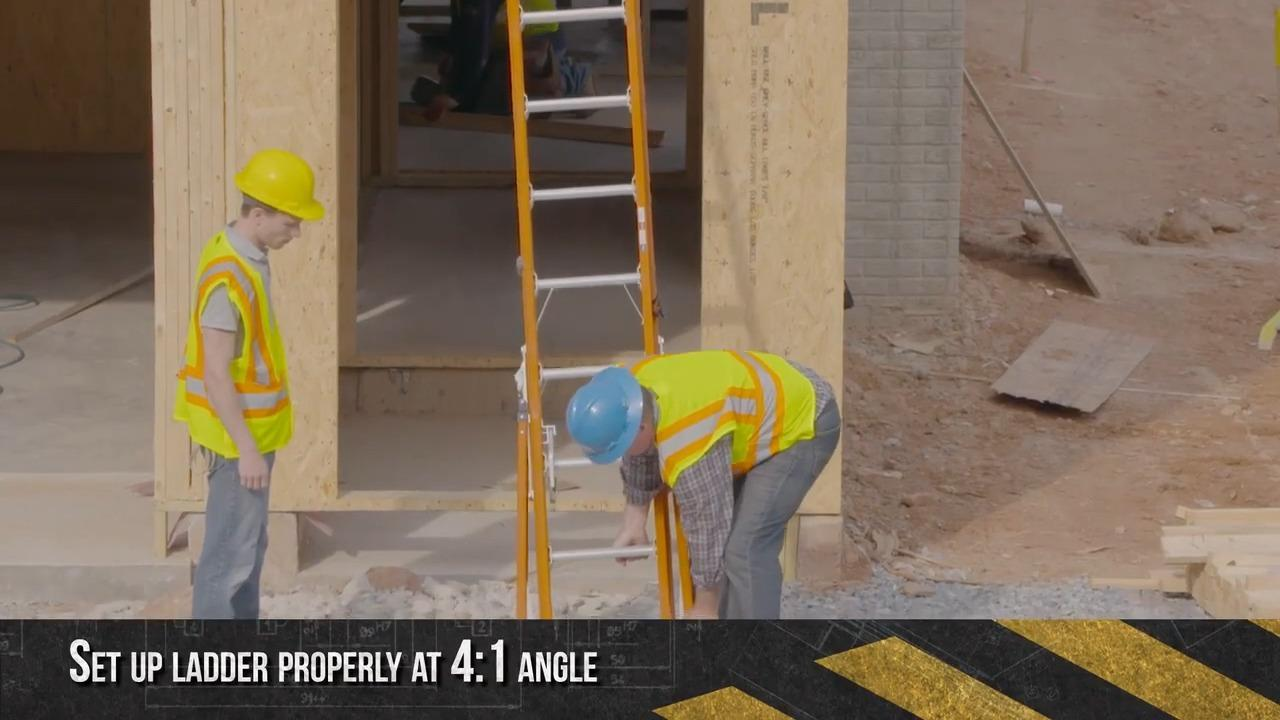Helmet: (565, 366, 644, 465), (236, 148, 325, 223)
Person: (569, 347, 844, 617), (175, 147, 307, 617)
Safety Vest: (187, 247, 287, 444), (642, 350, 809, 467)
bare-arms: (611, 528, 656, 565), (677, 593, 722, 630), (236, 456, 272, 492)
